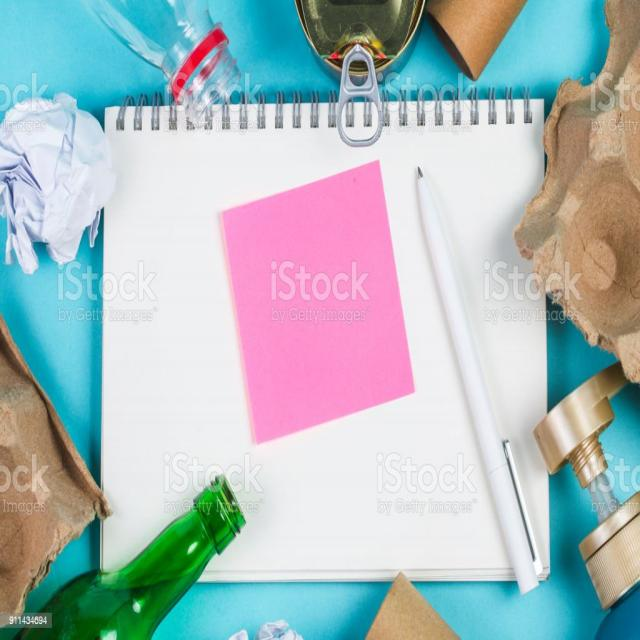dry: (145, 178, 387, 435), (402, 169, 541, 586), (0, 308, 107, 572), (549, 71, 640, 370), (542, 392, 640, 640), (2, 72, 107, 289), (84, 0, 289, 99), (292, 0, 442, 116), (116, 97, 544, 136), (363, 566, 477, 640), (444, 0, 538, 80)
